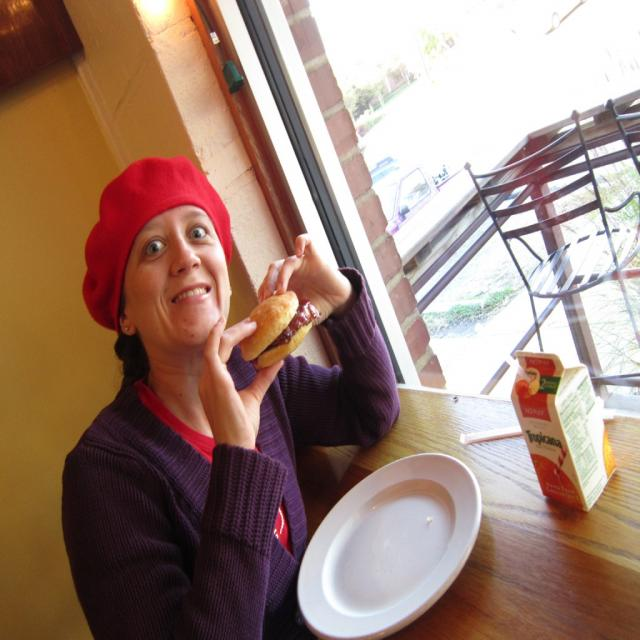non-organic waste: (301, 457, 476, 638)
